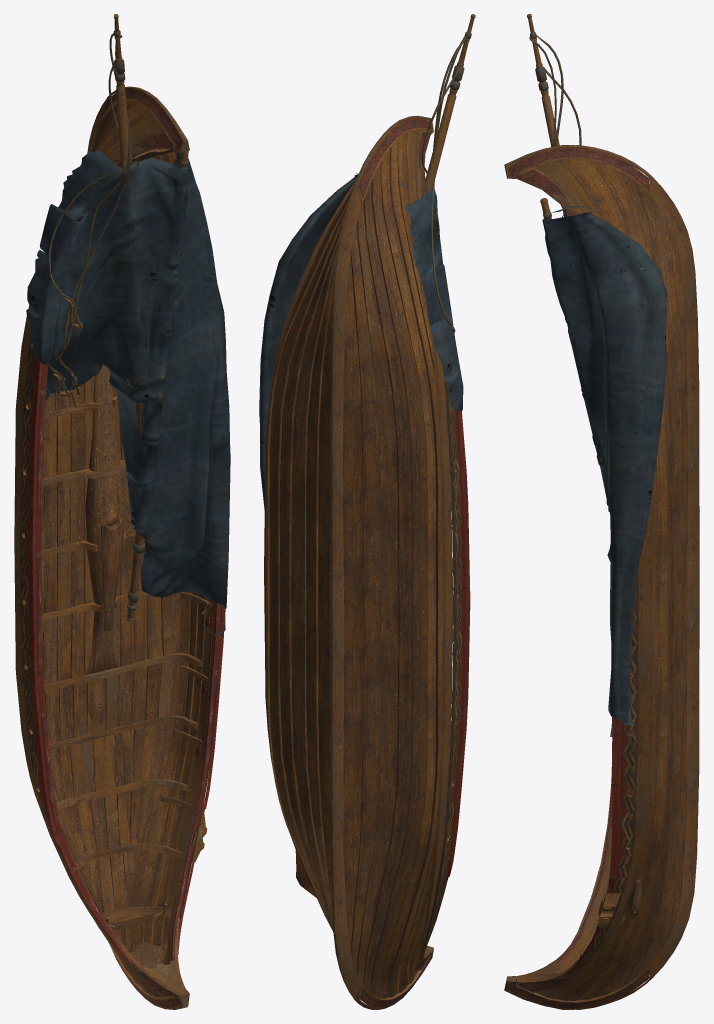
Rendered from VIK_PRO_Longship_Hull_01A_LOD0_2-transformed.glb.
3 renders of one model, left to right at view 1: azimuth 30°, elevation 25°; view 2: azimuth 150°, elevation 25°; view 3: azimuth 270°, elevation 25°, orthographic. The views are drawn at different scales.
Parts seen in each view (by area): view 1: VIK_PRO_Longship_Hull_01A_LOD0_2; view 2: VIK_PRO_Longship_Hull_01A_LOD0_2; view 3: VIK_PRO_Longship_Hull_01A_LOD0_2.
Boxes of the visible parts, bbox=[...] form: VIK_PRO_Longship_Hull_01A_LOD0_2: bbox=[14, 14, 230, 1009]; VIK_PRO_Longship_Hull_01A_LOD0_2: bbox=[259, 14, 475, 1009]; VIK_PRO_Longship_Hull_01A_LOD0_2: bbox=[504, 14, 699, 1009].
Size of the model in its own units: 0.0392 by 0.1882 by 0.0344.
Materials: 5 (5 with a texture image).
